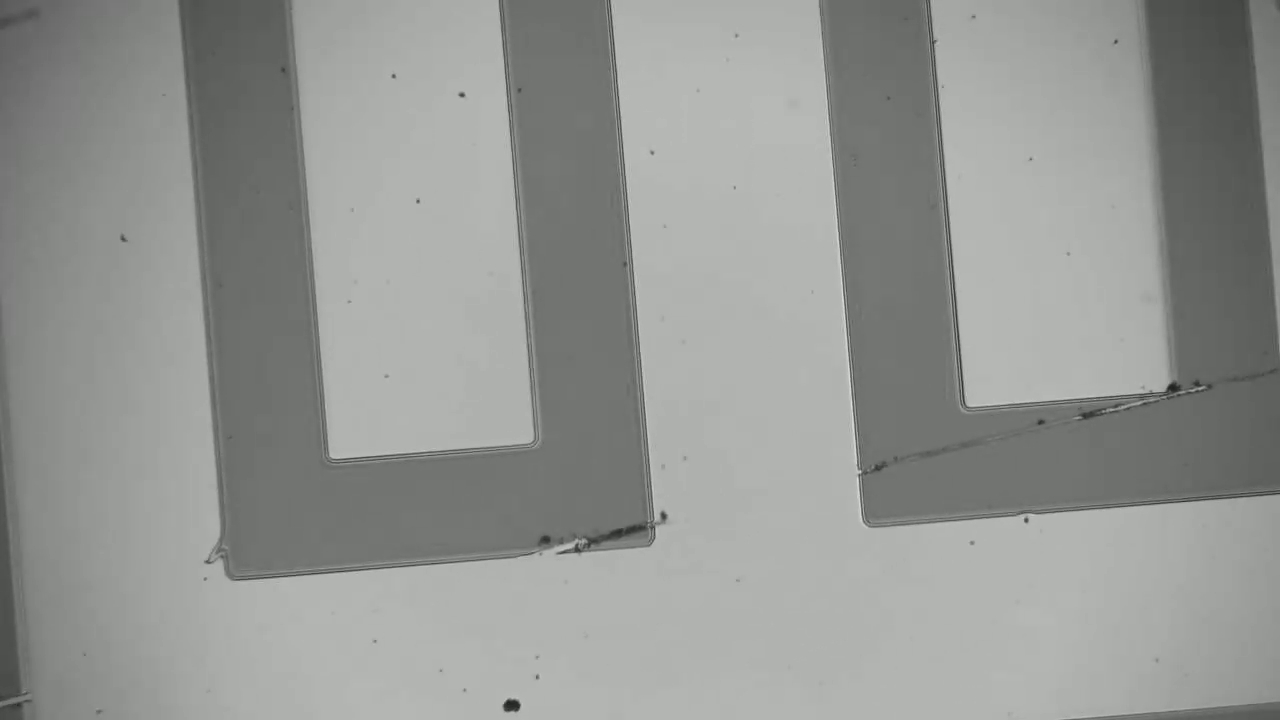scratch: (871, 374, 1273, 466), (550, 515, 645, 548)
